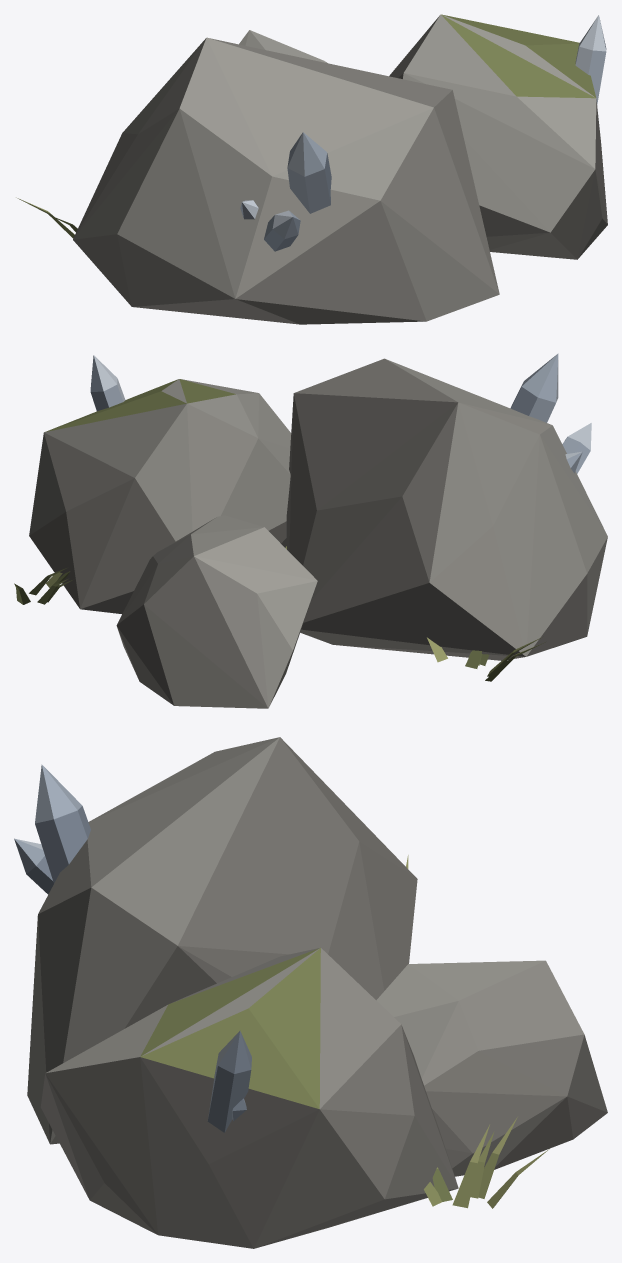
The model's file is rock_temperate_2.glb.
3 views of the same model, one above another, from view 1: azimuth 30°, elevation 25°; view 2: azimuth 150°, elevation 25°; view 3: azimuth 270°, elevation 25° (orthographic). The views are drawn at different scales.
Parts seen in each view (by area): view 1: Body; view 2: Body; view 3: Body.
Boxes of the visible parts, <box> form: Body: <box>16,14,607,324</box>; Body: <box>14,353,607,708</box>; Body: <box>14,737,607,1248</box>.
Bounding box in the file's own units: 3.8 × 1.62 × 3.01.
